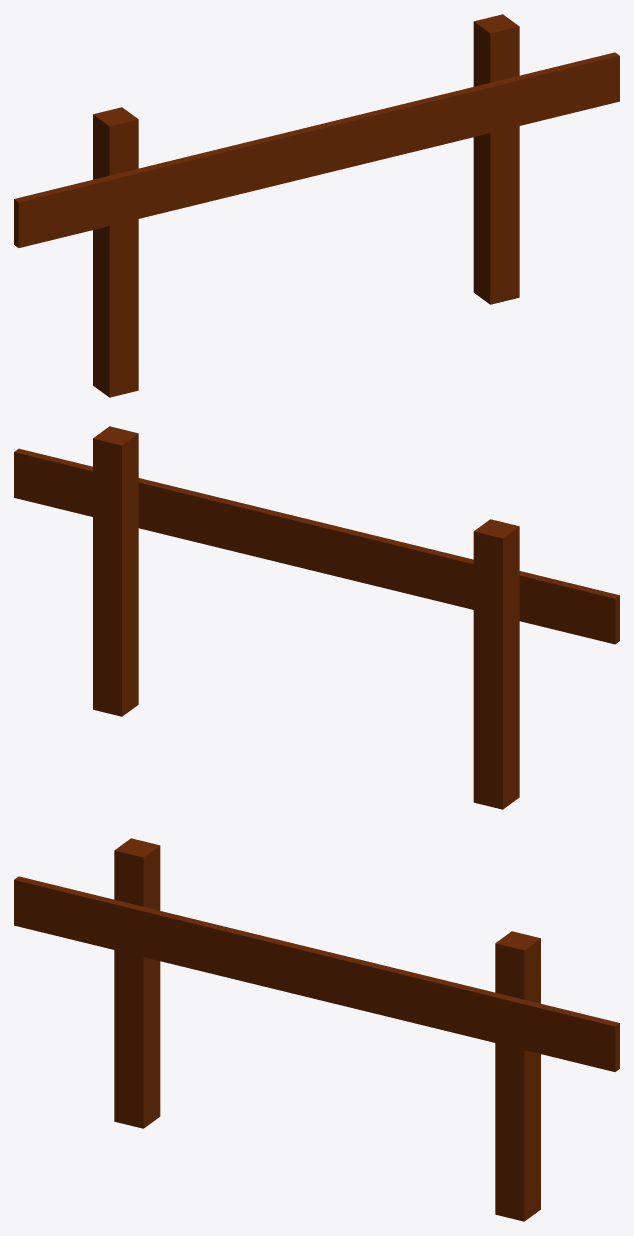
Rendered from deadend.fbx.
3 renders of one model, top to bottom at view 1: azimuth 30°, elevation 25°; view 2: azimuth 150°, elevation 25°; view 3: azimuth 330°, elevation 25°, orthographic.
Parts seen in each view (by area): view 1: Cube; view 2: Cube; view 3: Cube.
Part boxes in pixels (x1,y1,x2,y2): Cube: [14, 14, 619, 397]; Cube: [14, 426, 619, 809]; Cube: [14, 838, 619, 1221].
Size of the model in its own units: 295 by 127 by 18.25.
